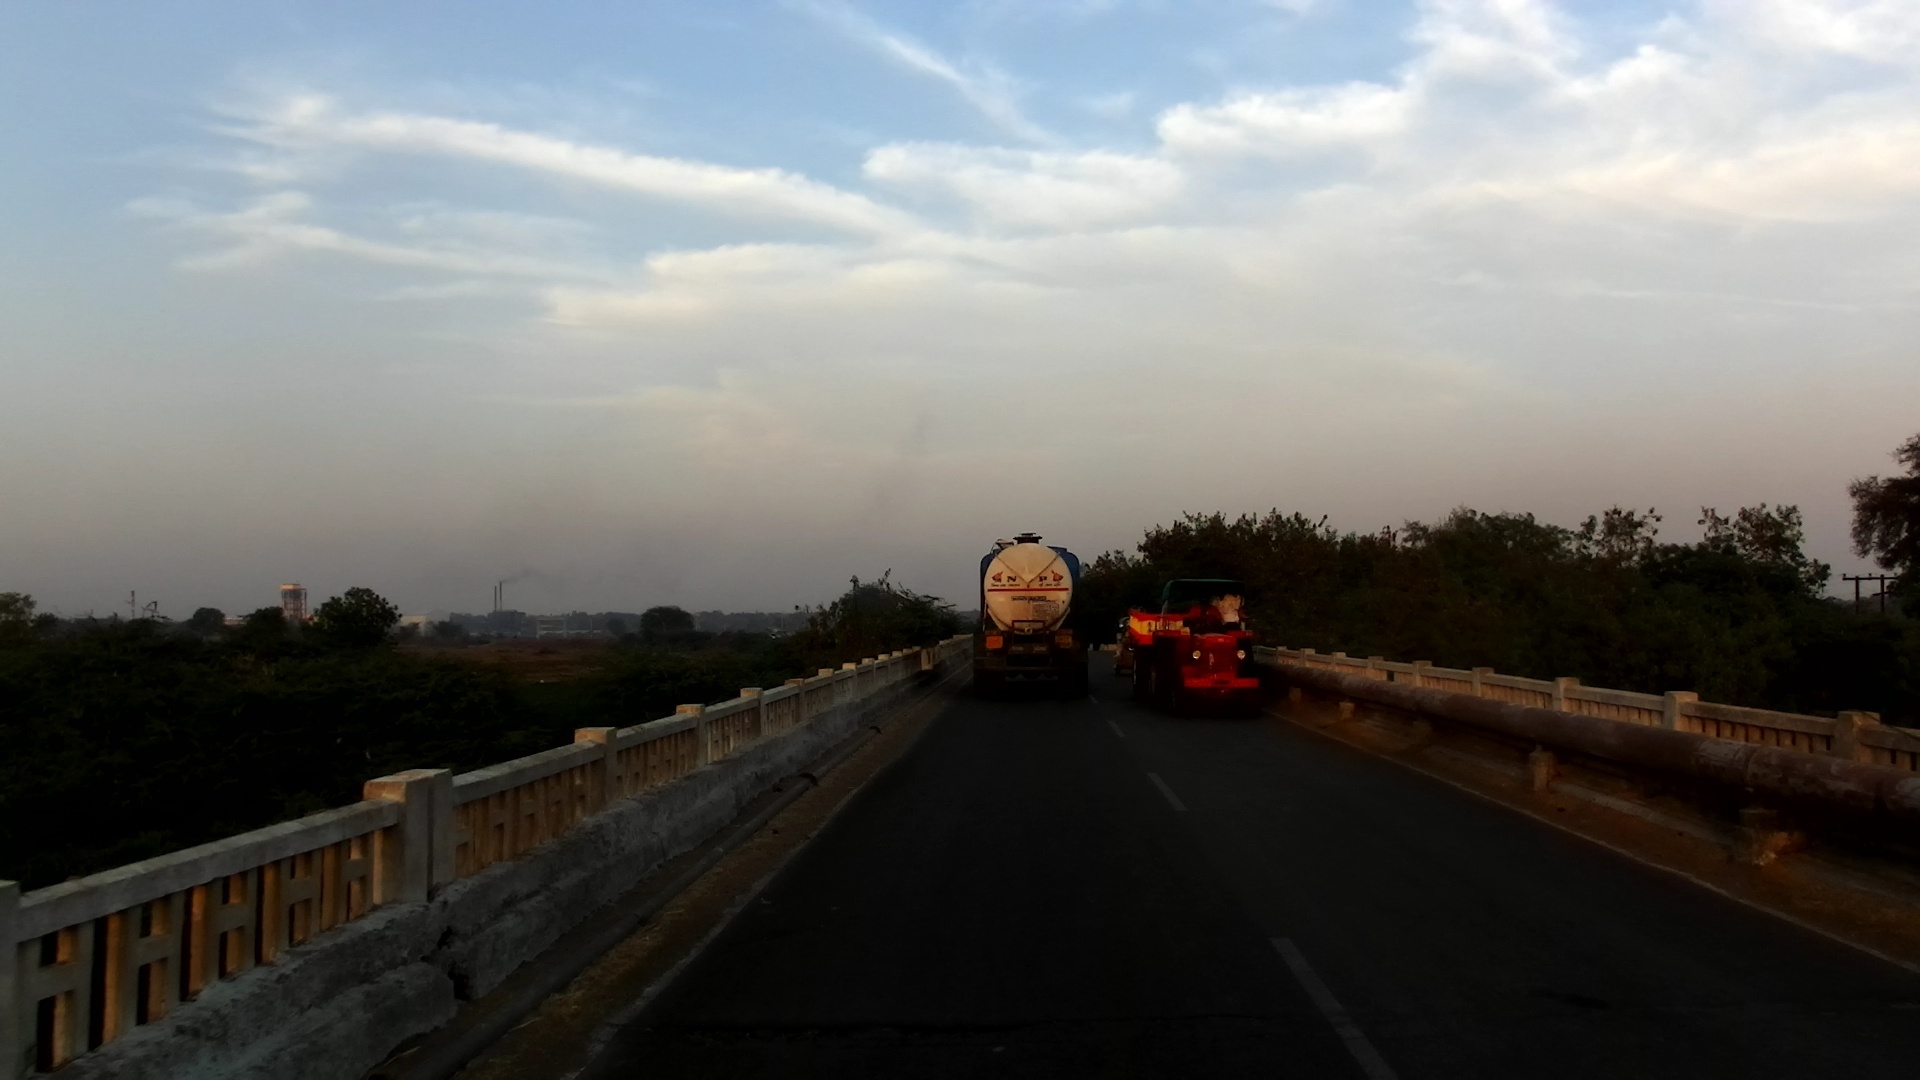autorickshaw: (1113, 618, 1145, 677)
rider: (1211, 589, 1246, 653)
truck: (971, 530, 1088, 700), (1123, 576, 1262, 717)
